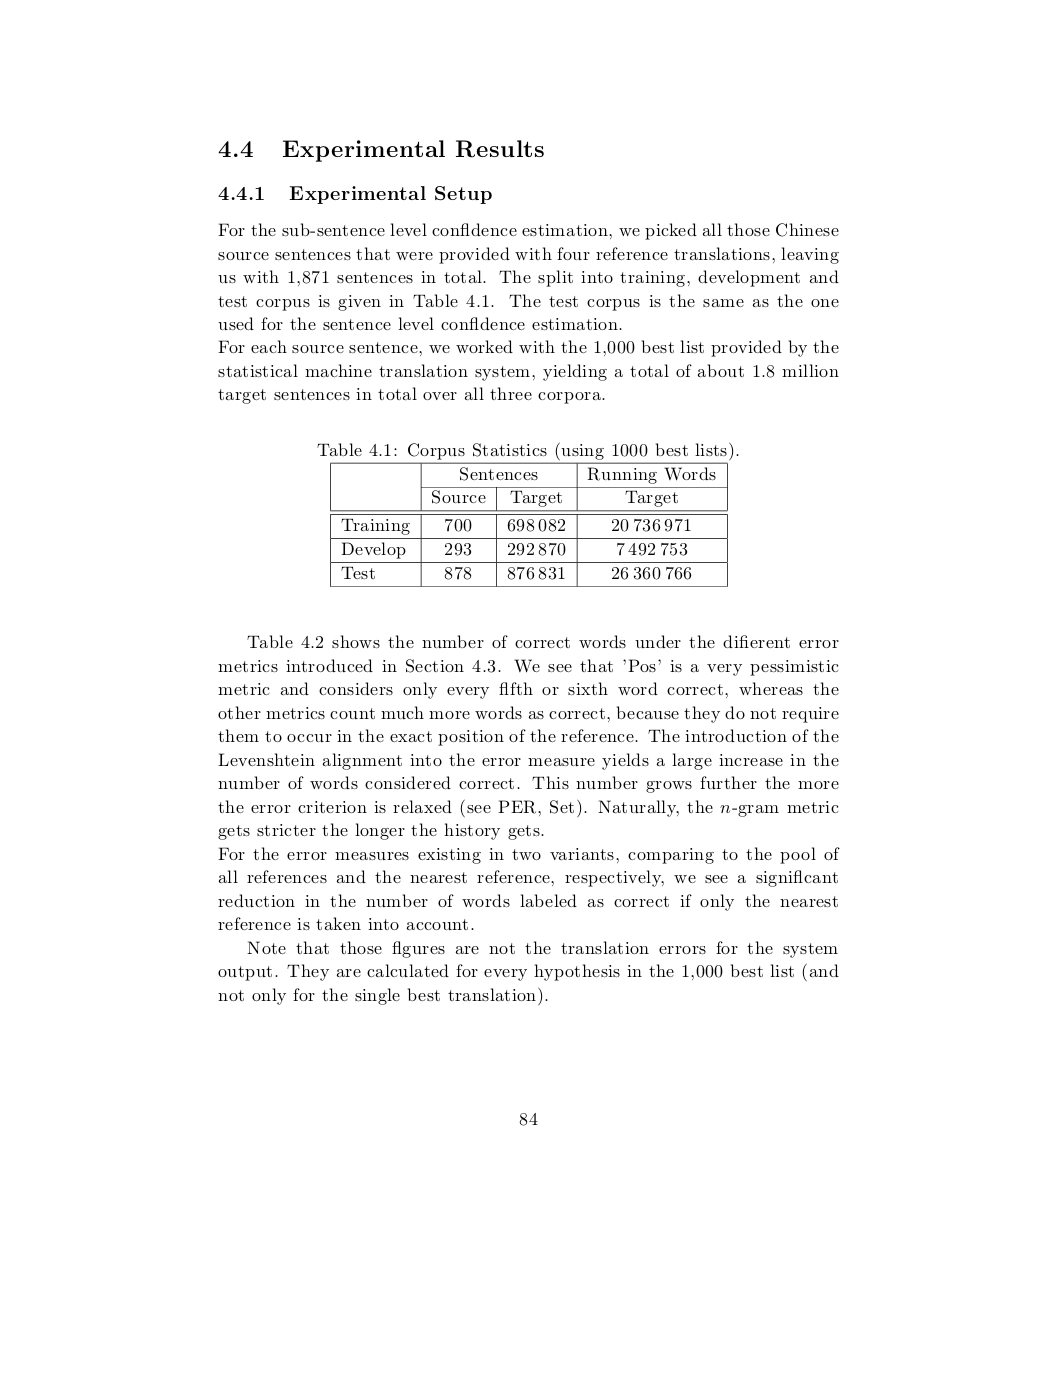Table: (330, 462, 727, 586)
